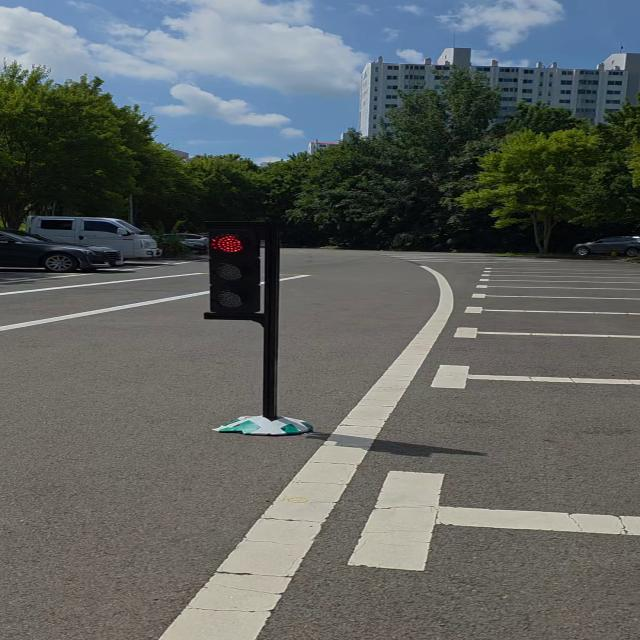red: (205, 221, 272, 320)
